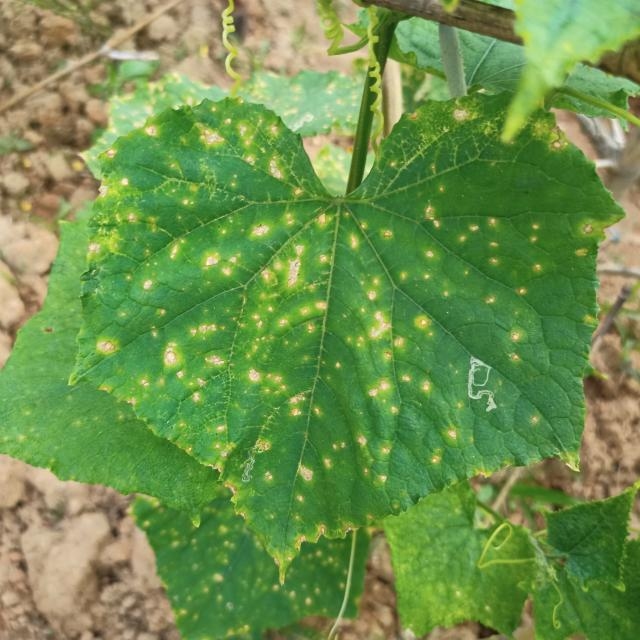disease_cucumber: (98, 107, 563, 531)
